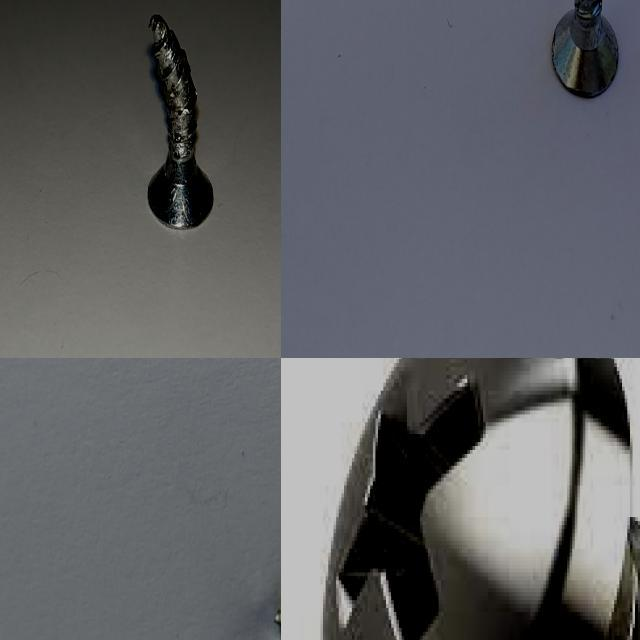Screw: (318, 358, 640, 640), (148, 14, 214, 227), (553, 0, 619, 96)
